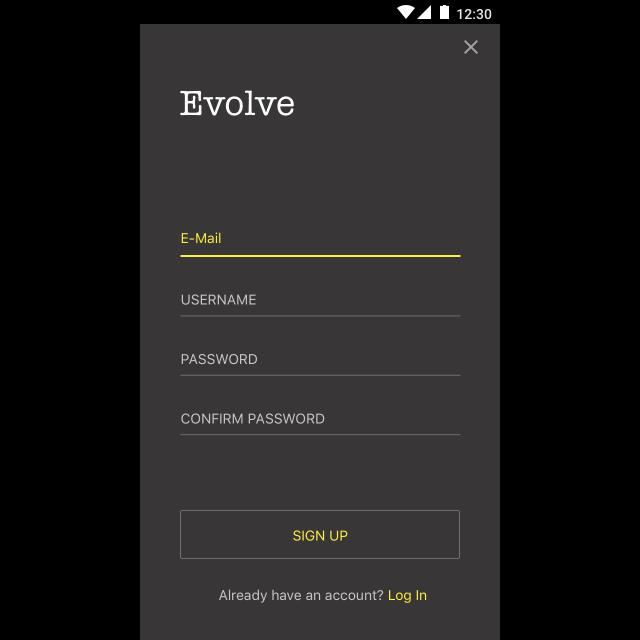icon: (464, 40, 478, 56)
input: (181, 232, 461, 258), (181, 294, 461, 318), (181, 412, 461, 436), (181, 354, 461, 376)
text: (181, 91, 295, 117), (219, 589, 427, 603), (182, 412, 326, 423), (182, 294, 256, 306), (182, 354, 258, 364), (182, 232, 220, 244)
textbutton: (180, 509, 460, 559)
uppertaskbar: (140, 1, 500, 25)
